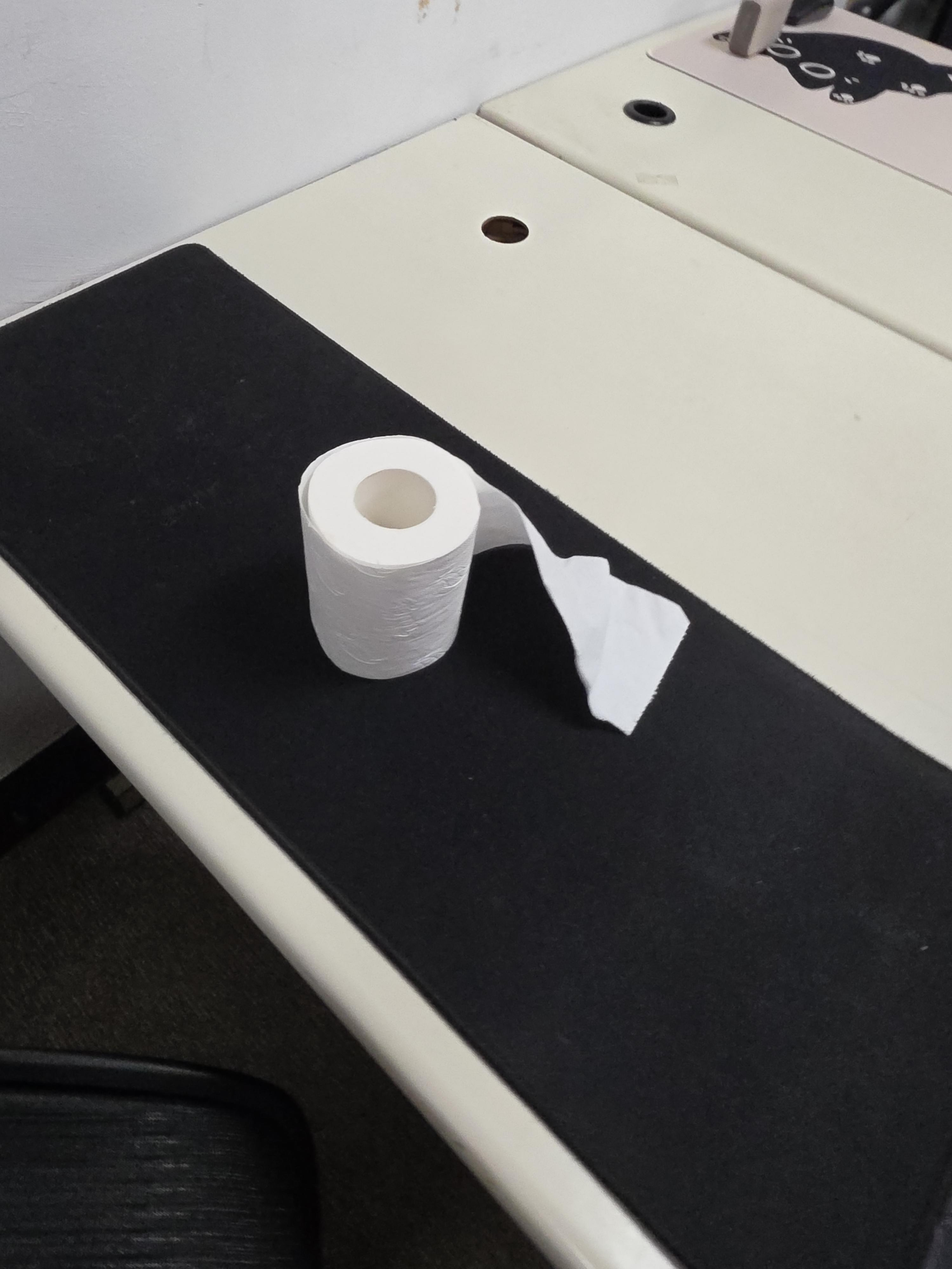tissue: (298, 434, 691, 737)
